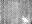person: (23, 18, 30, 23)
